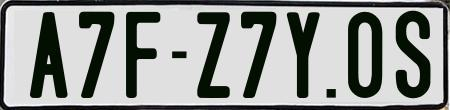0: (346, 11, 380, 100)
7: (238, 9, 277, 98), (79, 11, 115, 103)
A: (27, 10, 70, 100)
F: (126, 10, 165, 98)
S: (393, 10, 433, 98)
Y: (284, 11, 320, 101)
Z: (194, 9, 233, 96)
